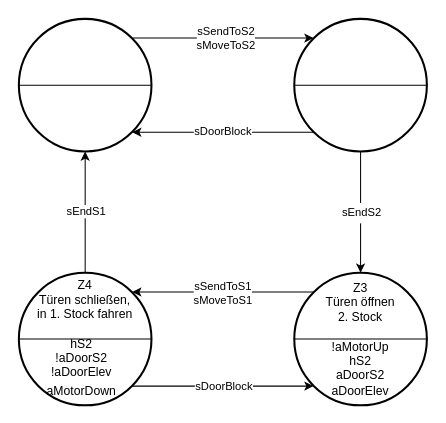
Image size: 446x423. Some labels were removed from this diagram. The centre of each missing label's shape, as x and y in pixels:
"Z1 Türen öffnen 1. Stock !aMotorDown hS1 aDoorS1 aDoorElev" belongs at [84,84].
"Z2 Türen schließen, in 2. Stock fahren !hS1 !aDoorS1 !aDoorElev aMotorUp" belongs at [360,84].
